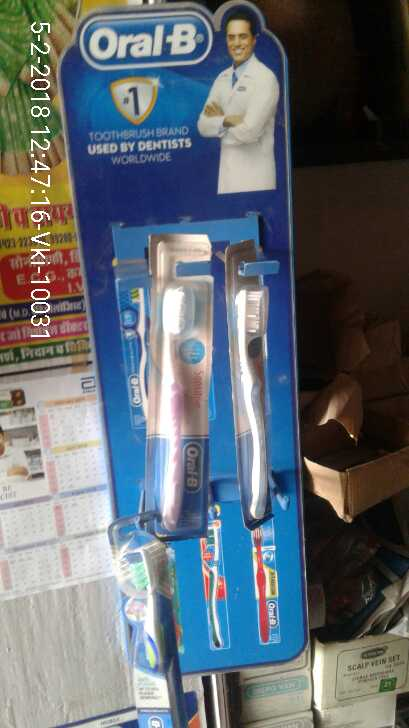oralb: (138, 221, 207, 543), (230, 245, 276, 519), (117, 547, 186, 728)
